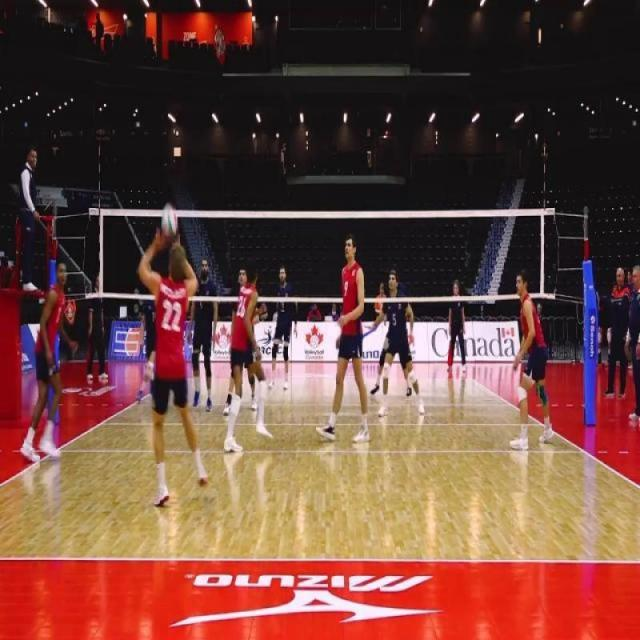volleyball: (160, 200, 179, 240)
